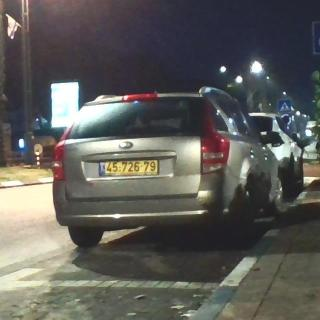LicensePlate: (105, 160, 157, 174)
